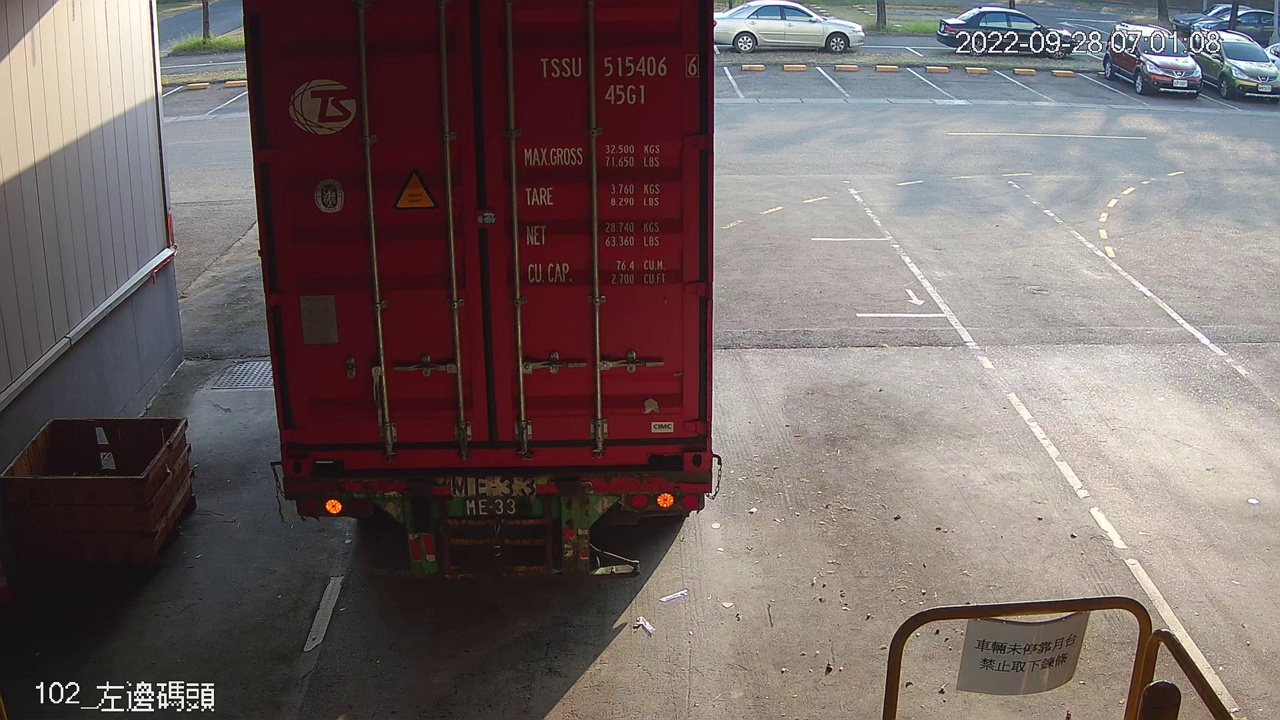container: (527, 44, 706, 110)
